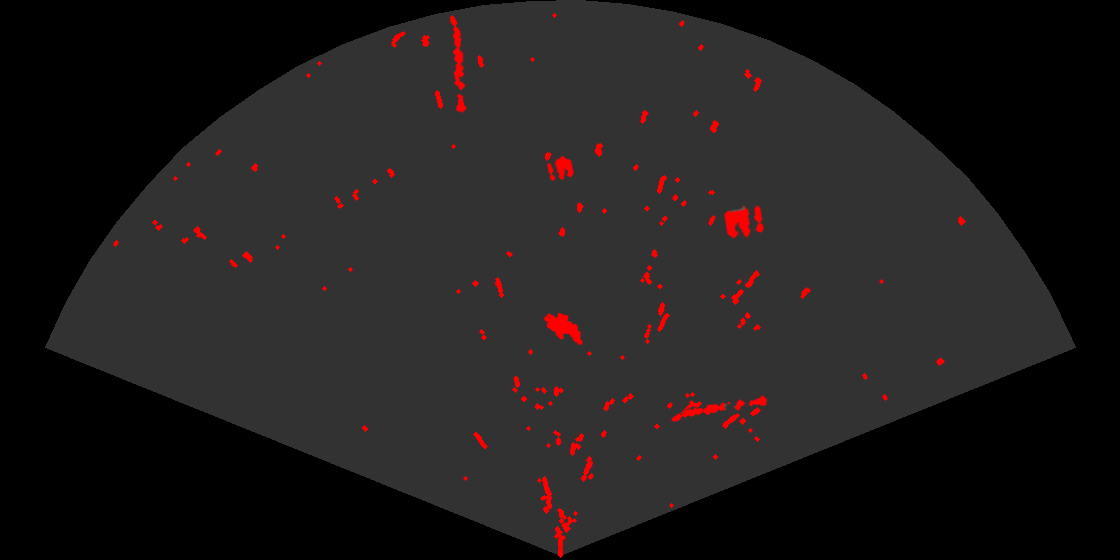AUV: (542, 311, 584, 346)
ball: (722, 204, 766, 240), (545, 154, 576, 183)
chain: (670, 394, 769, 423), (448, 13, 469, 114)
